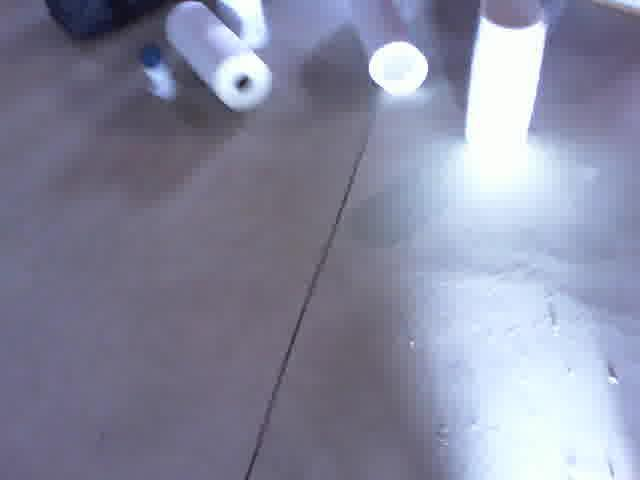coral: (460, 0, 554, 157), (344, 0, 435, 97)
